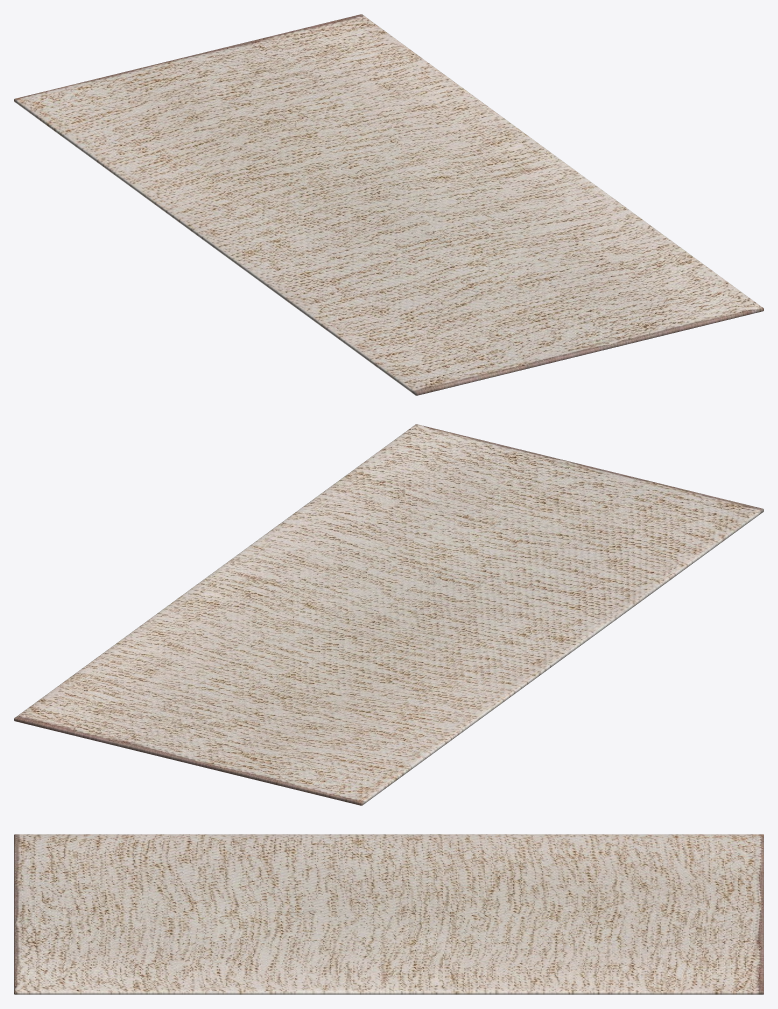
Rendered from 4_car.glb.
3 renders of one model, top to bottom at view 1: azimuth 30°, elevation 25°; view 2: azimuth 150°, elevation 25°; view 3: azimuth 270°, elevation 25°, orthographic. The views are drawn at different scales.
Visible parts, largest first — view 1: Raw Loom Rug; view 2: Raw Loom Rug; view 3: Raw Loom Rug.
Boxes of the visible parts, box(x1,y1,x2,y2) form: Raw Loom Rug: box(14, 14, 763, 395); Raw Loom Rug: box(14, 424, 763, 805); Raw Loom Rug: box(14, 834, 763, 994).
Bounding box in the file's own units: 0.5 × 0.00498 × 1.
1 material, 1 textured.
